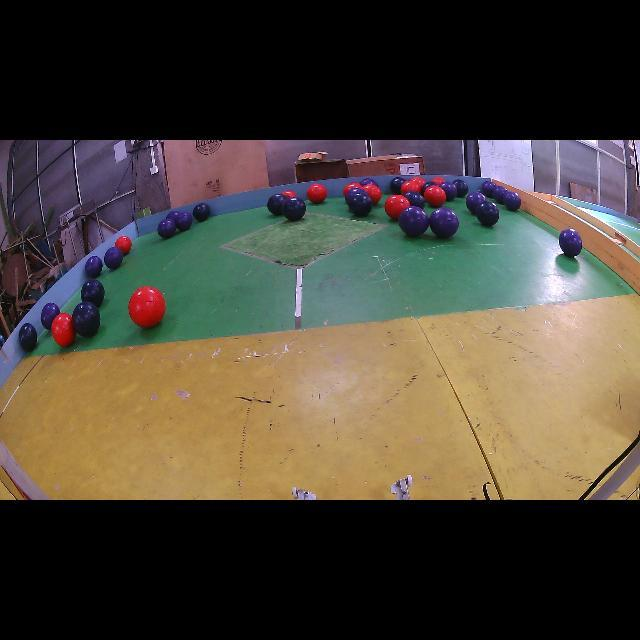B: (72, 301, 100, 338), (81, 279, 105, 307), (281, 196, 306, 221), (476, 201, 500, 226), (348, 192, 372, 216), (19, 322, 38, 351), (268, 194, 288, 216), (404, 191, 425, 209), (192, 202, 210, 221), (452, 179, 469, 198), (390, 176, 405, 194), (421, 181, 438, 194)
P: (429, 208, 459, 238), (399, 206, 429, 236), (559, 229, 582, 257), (40, 302, 60, 330), (466, 191, 486, 214), (104, 246, 122, 269), (502, 191, 521, 211), (85, 256, 102, 278), (440, 181, 458, 201), (158, 219, 176, 239), (174, 211, 192, 231), (345, 188, 366, 203), (492, 185, 508, 204), (481, 180, 495, 198), (360, 178, 378, 186), (166, 211, 179, 219)
R: (129, 286, 165, 328), (51, 312, 76, 346), (385, 195, 410, 219), (400, 176, 425, 195), (424, 185, 446, 206), (308, 184, 328, 204), (362, 184, 381, 204), (115, 235, 131, 255), (400, 180, 421, 195), (342, 182, 362, 196), (281, 190, 296, 198), (431, 178, 445, 185)
